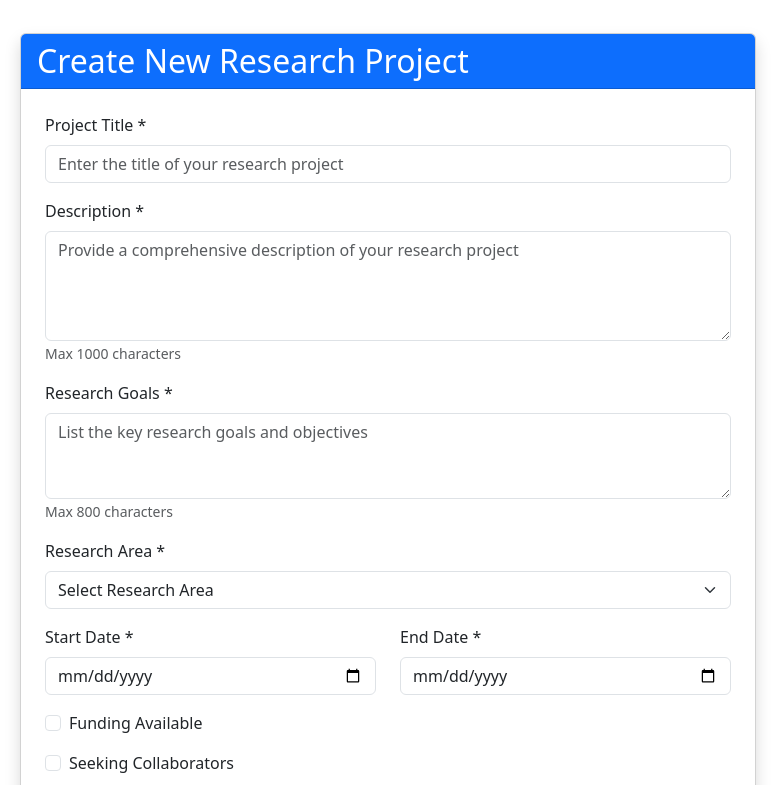
Test case: CreateProject › displays validation error for end date earlier than start date
Type "AI Research" into the field labelled "Project Title *" at (388, 164), box [45,145,731,183]
Type "Exploring models" into the text box labelled "Description *" at (388, 286), box [45,231,731,341]
Type "Better ML methods" into the text box labelled "Research Goals *" at (388, 456), box [45,413,731,499]
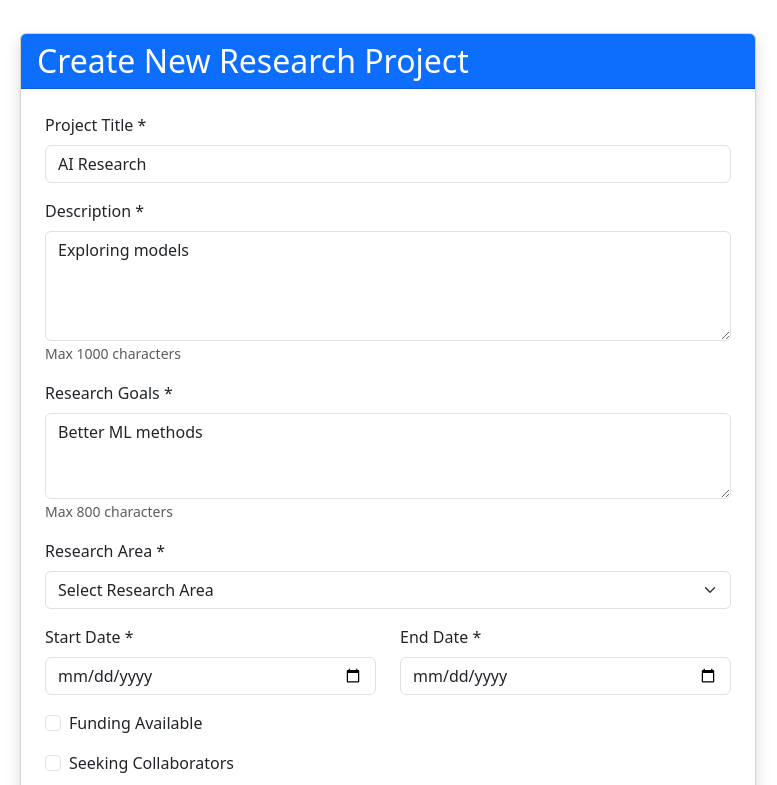
Select "Artificial Intelligence" in the dropdown labelled "Research Area *" at (388, 590), box [45,571,731,609]
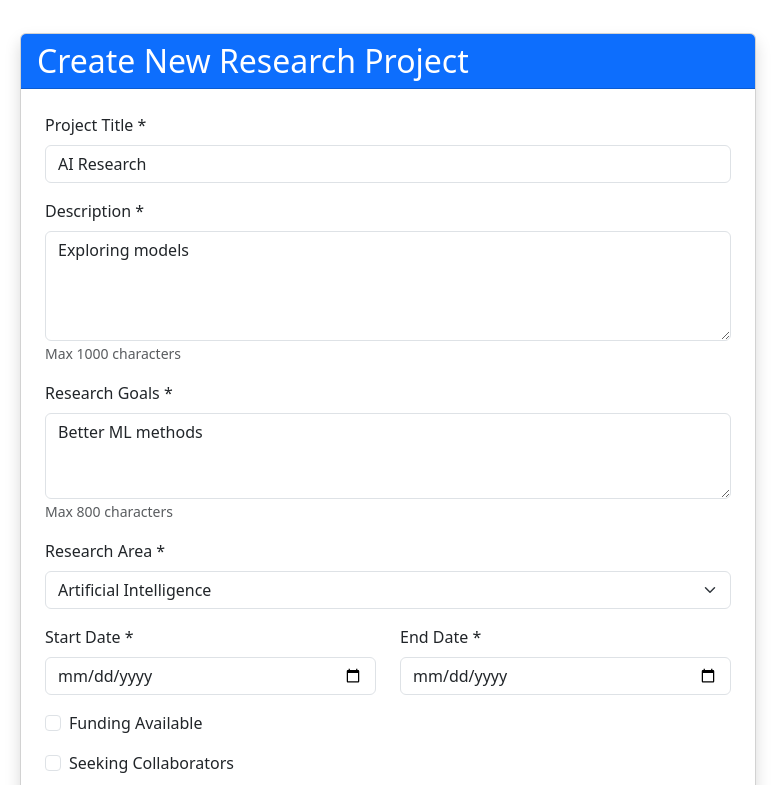
Type "2025-12-31" into the date field labelled "Start Date *" at (210, 676), box [45,657,376,695]
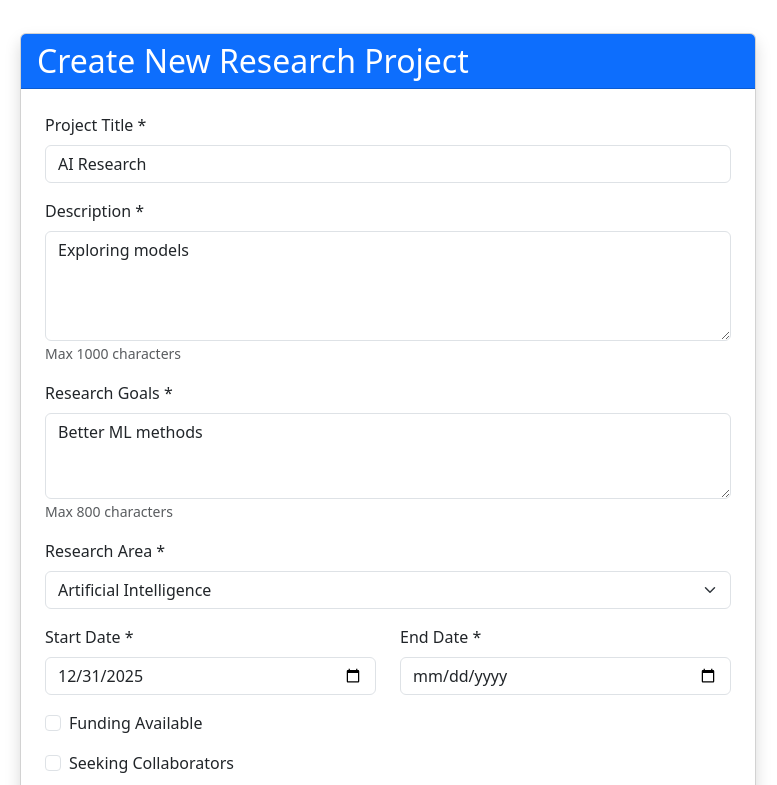
Type "2025-01-01" into the date field labelled "End Date *" at (566, 676), box [400,657,731,695]
(page scrolled)
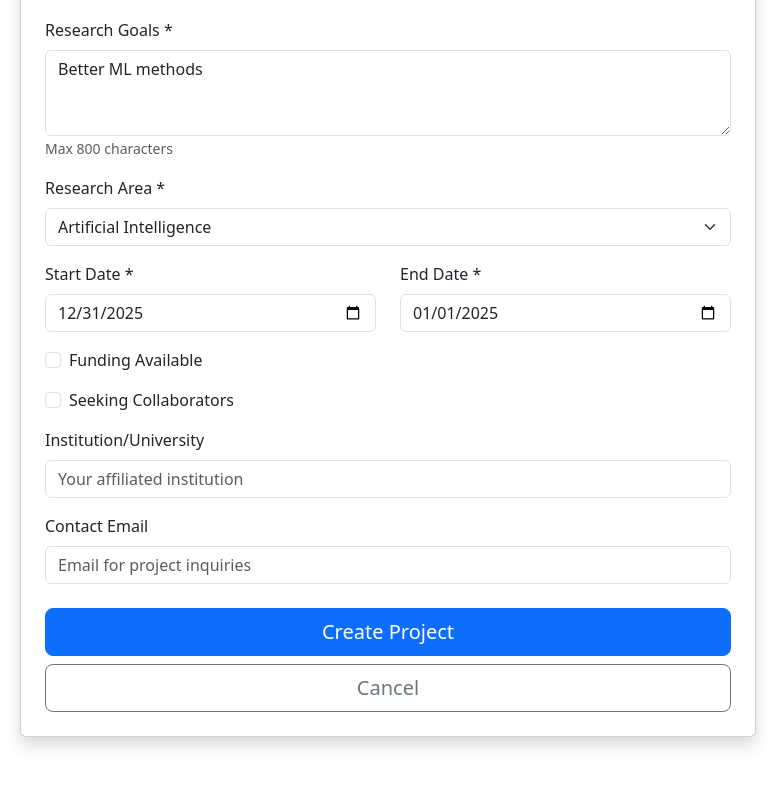
Type "test@example.com" into the field labelled "Contact Email" at (388, 565), box [45,546,731,584]
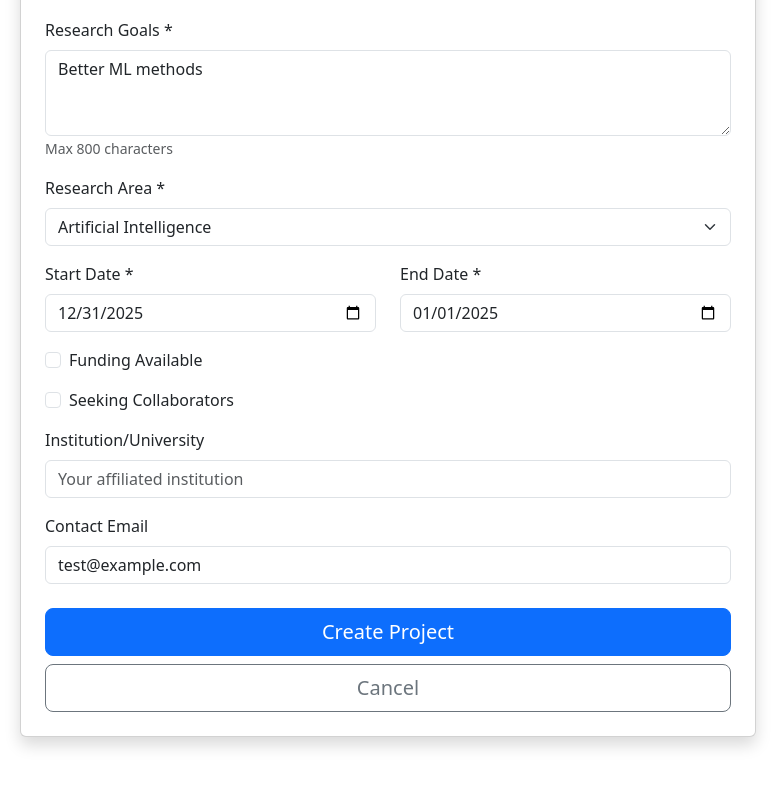
Click the button "Create Project" at (388, 632), box [45,608,731,656]
(page scrolled)
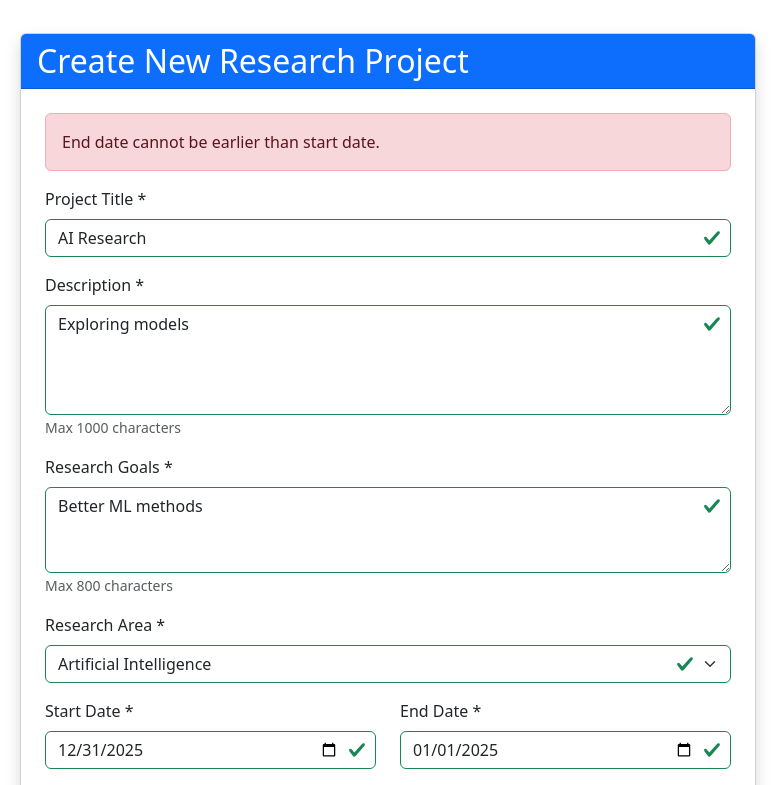
expect the message with test id "form-error" shows "End date cannot be earlier than start date": met, box [62,131,380,153]
